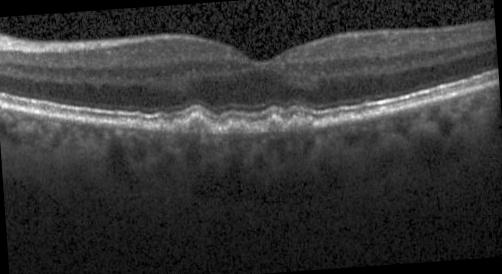retinal_drusen: (186, 116, 212, 135), (288, 117, 309, 131), (268, 119, 284, 134), (227, 123, 247, 134), (172, 121, 185, 133), (354, 117, 367, 125), (251, 127, 263, 134), (380, 108, 388, 117), (159, 122, 166, 132), (370, 116, 380, 123), (342, 120, 353, 126), (333, 123, 341, 127), (326, 123, 330, 127)
